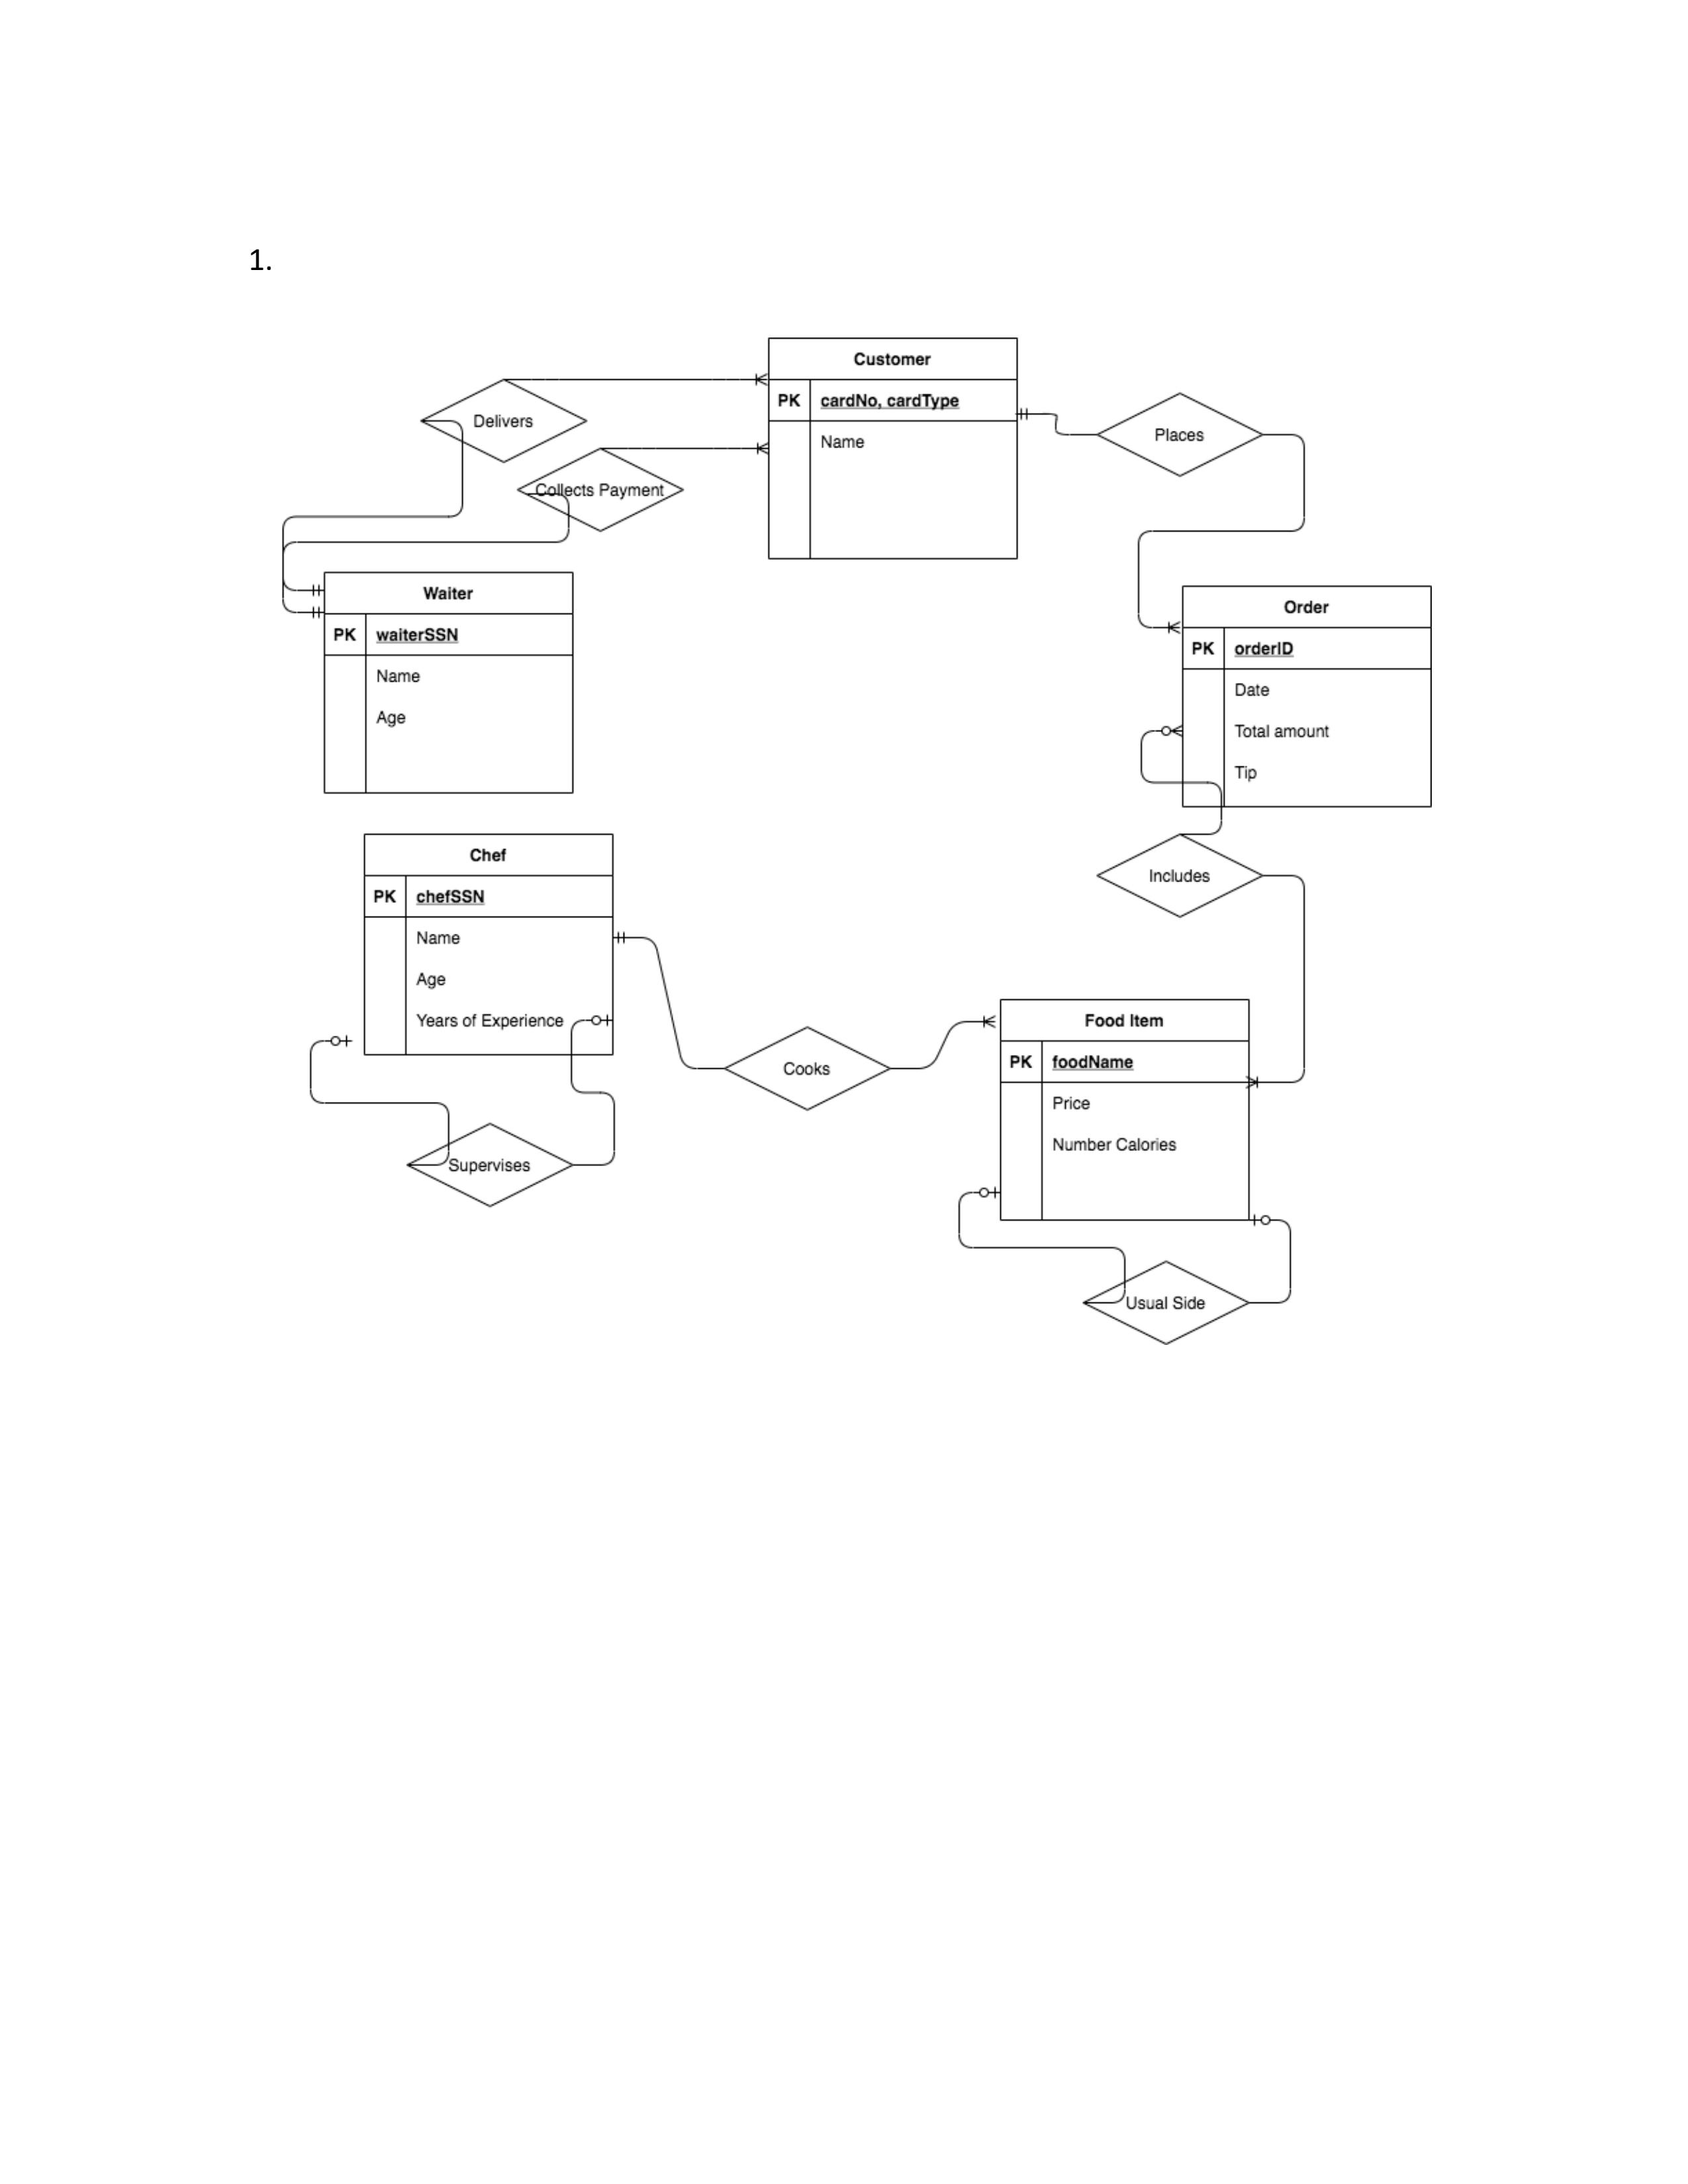Entity: (995, 996, 1252, 1225), (1179, 583, 1434, 812), (360, 831, 617, 1058), (323, 569, 576, 798), (766, 335, 1021, 562)
Relationship: (1094, 833, 1266, 920), (518, 441, 684, 530), (720, 1025, 892, 1110), (1080, 1259, 1248, 1345), (1098, 392, 1264, 479), (406, 1124, 574, 1207), (422, 379, 589, 463)
